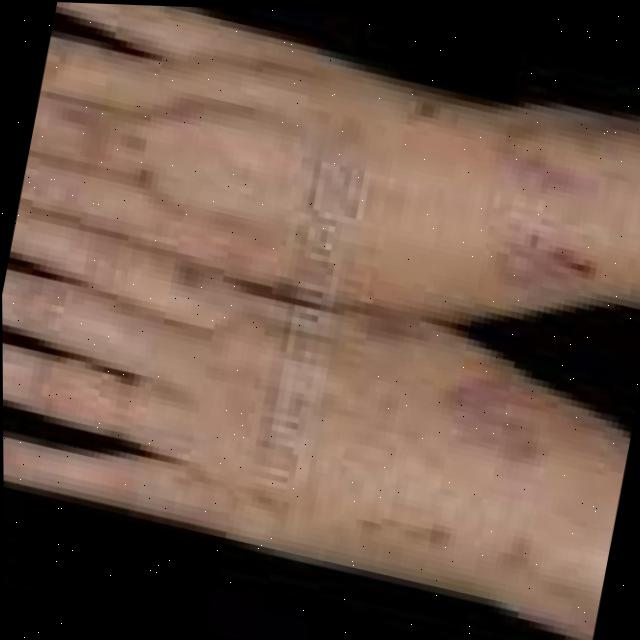Melasma: (462, 163, 624, 321), (430, 362, 540, 461)
